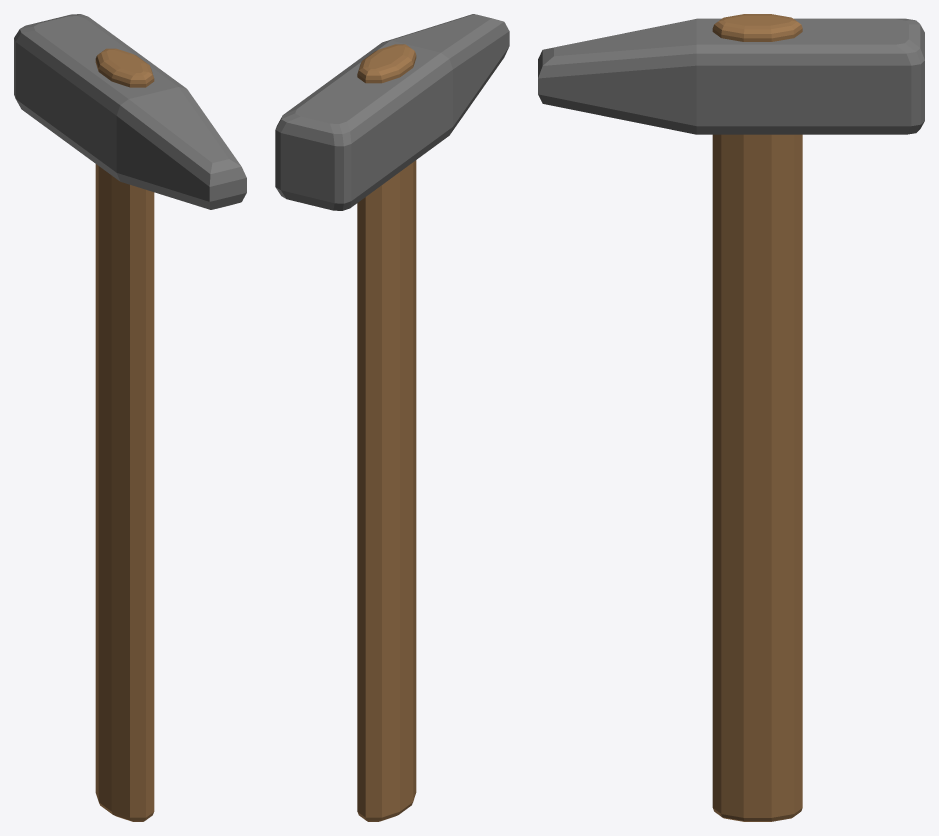
Rendered from hammer_FBX.fbx.
3 views of the same model, side by side, from view 1: azimuth 30°, elevation 25°; view 2: azimuth 150°, elevation 25°; view 3: azimuth 270°, elevation 25° (orthographic). The views are drawn at different scales.
Parts seen in each view (by area): view 1: Hammer; view 2: Hammer; view 3: Hammer.
Boxes of the visible parts, x1,y1,x2,y2 form: Hammer: (14, 14, 246, 821); Hammer: (275, 14, 509, 821); Hammer: (538, 14, 924, 821).
Size of the model in its own units: 2.66 by 25.71 by 11.34.
